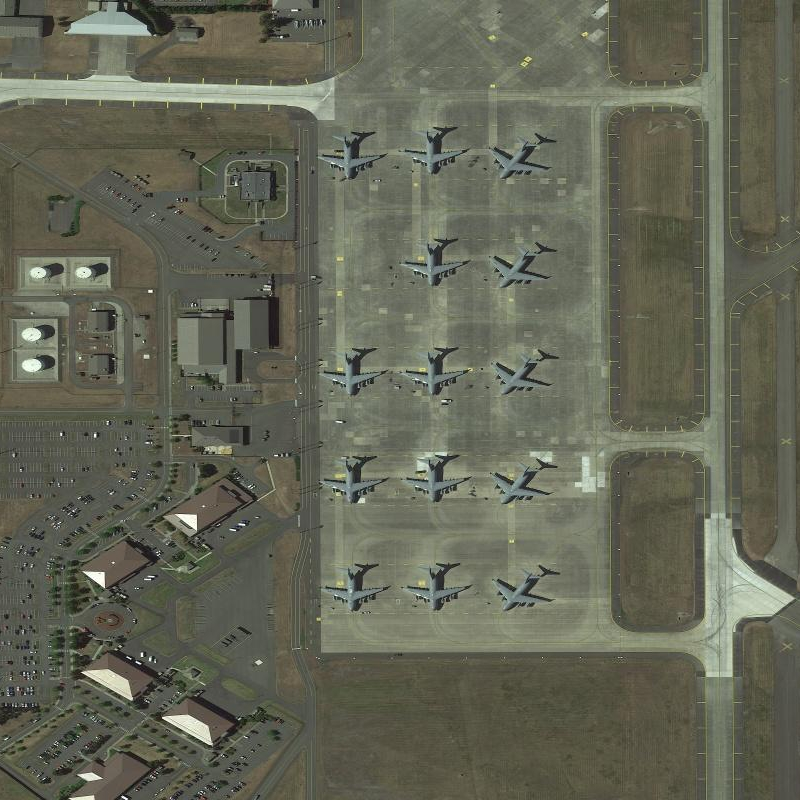A3: (397, 560, 474, 615), (314, 453, 389, 508), (394, 123, 467, 179), (395, 451, 471, 504), (315, 128, 387, 182), (319, 562, 391, 616), (396, 235, 466, 290), (398, 346, 468, 399), (486, 129, 554, 183), (316, 345, 386, 397), (485, 456, 553, 509), (487, 565, 557, 615), (488, 347, 552, 399), (487, 239, 548, 289)
